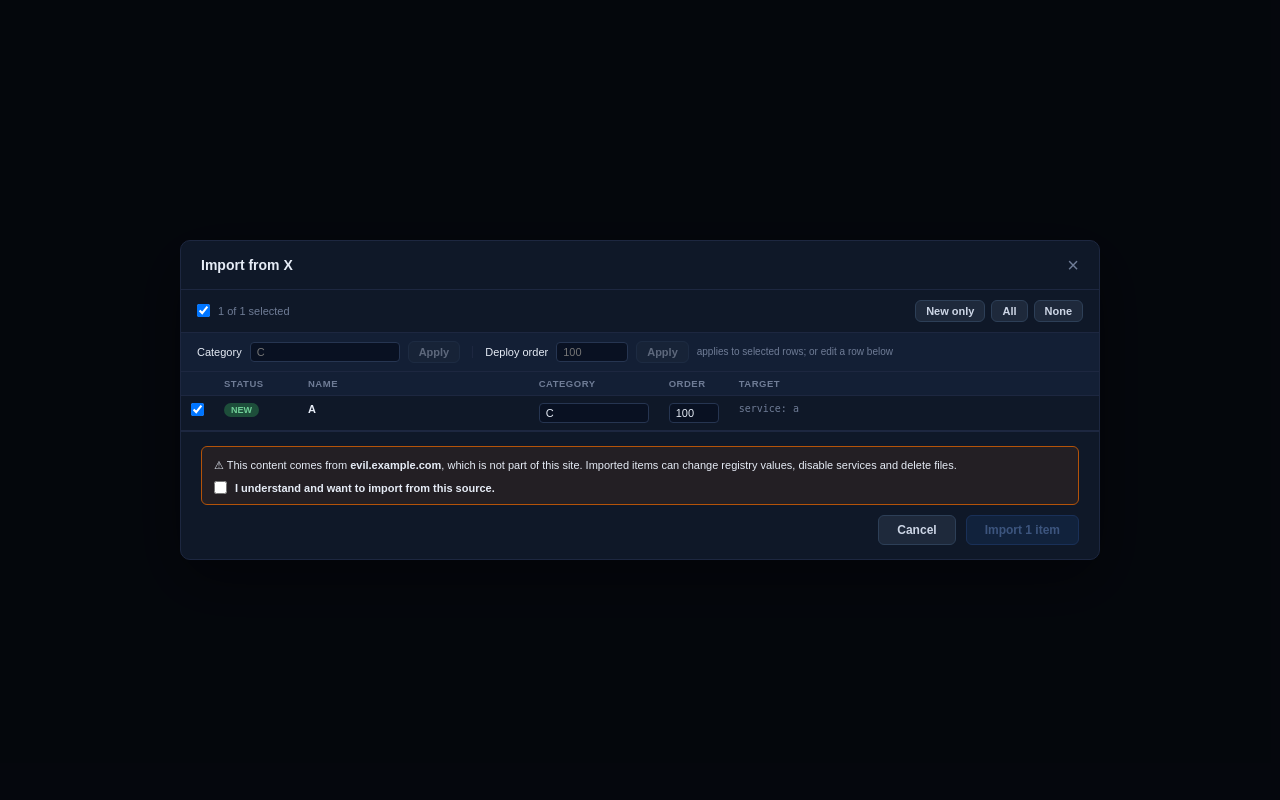
it: blocks import of cross-origin content until it is acknowledged
Expected: the button with class "dlg-btn" showing "Import 1 item" is disabled, [966, 515, 1079, 545]
Click the checkbox labelled "I understand and want to import from this source.". click: click(220, 488)
box: [214, 481, 227, 494]
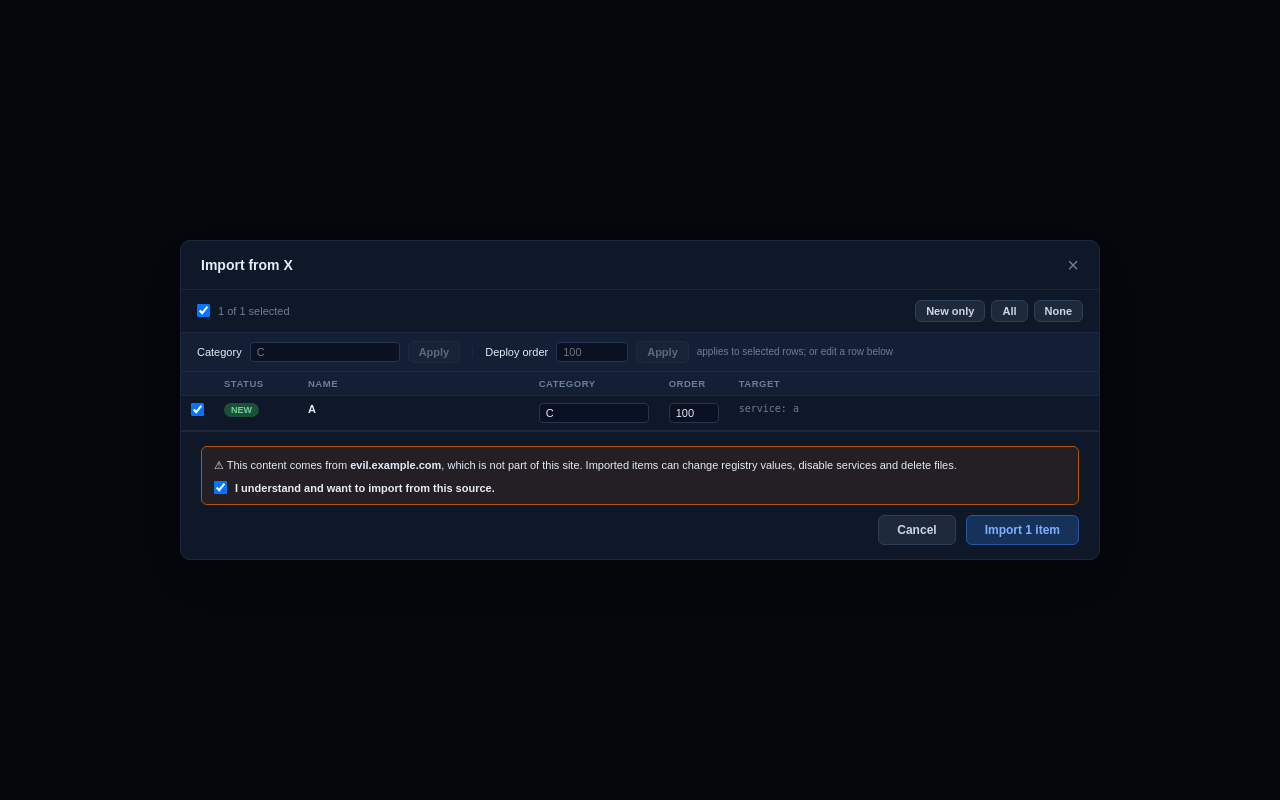
Result: the button with class "dlg-btn" showing "Import 1 item" is enabled at [966, 515, 1079, 545]
